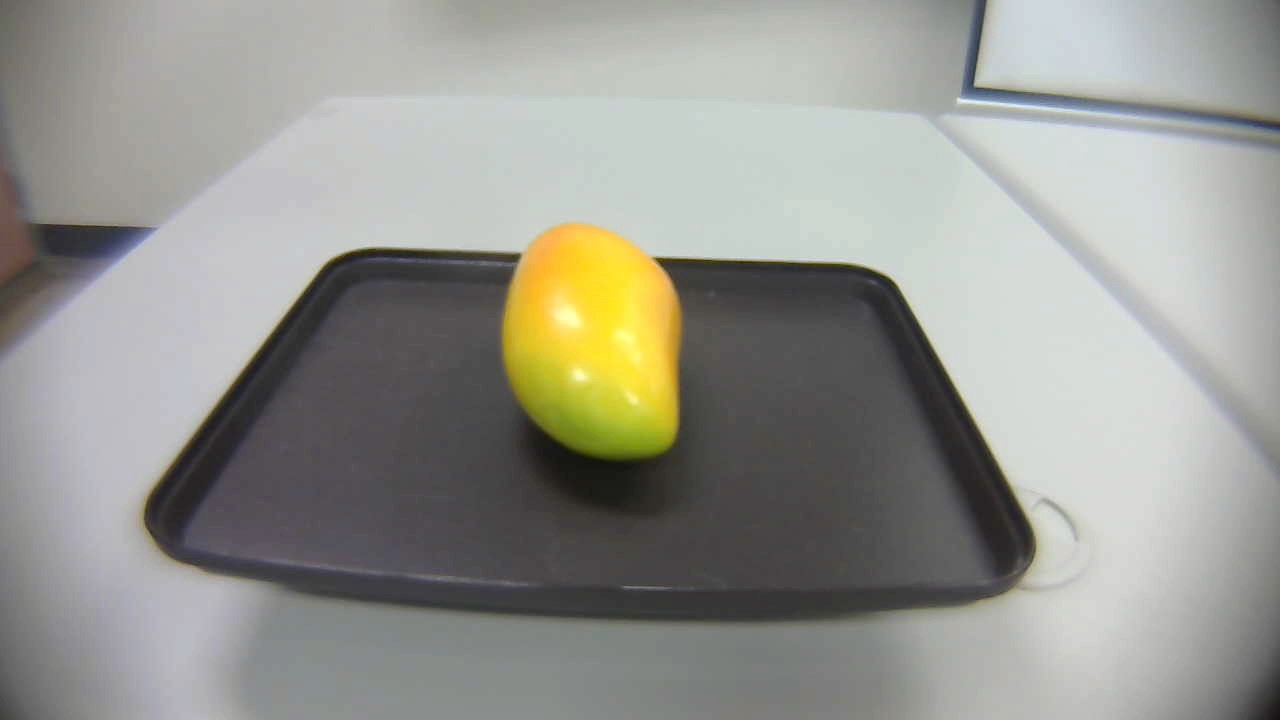yellow mango: (486, 216, 701, 476)
